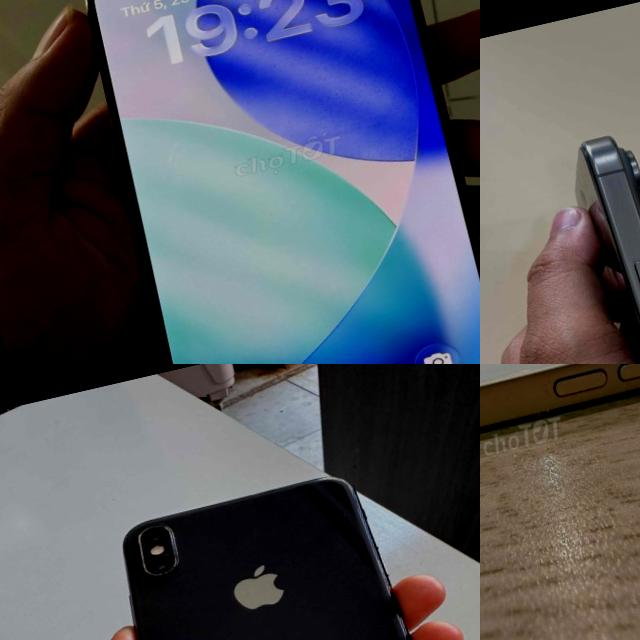gen_12_13: (480, 364, 640, 495)
gen_15: (530, 108, 640, 364)
gen_16: (86, 0, 480, 364), (205, 0, 418, 160), (215, 0, 290, 32)
gen_x_xs: (94, 458, 480, 640)
scratch: (168, 526, 188, 565), (117, 530, 136, 547)
